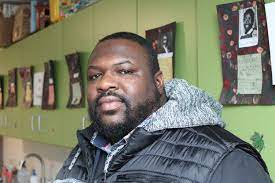s.black: (123, 78, 161, 116)
